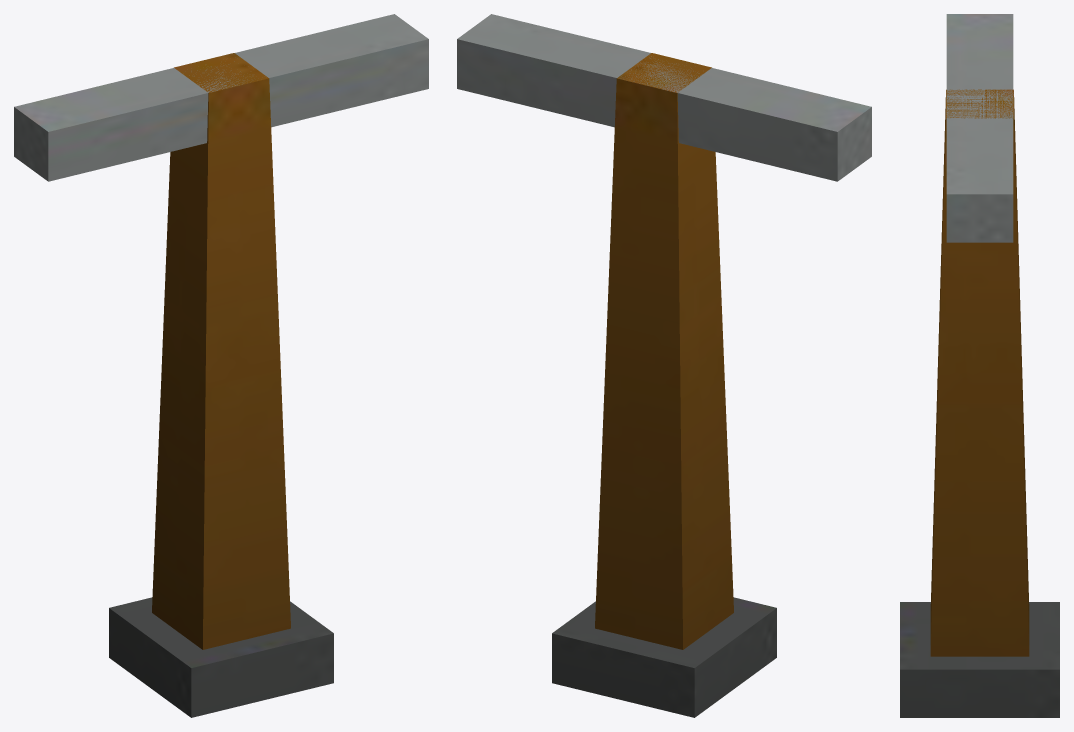
Rendered from small-electric-pole.glb.
The picture shows the model from 3 angles, left to right: view 1: azimuth 30°, elevation 25°; view 2: azimuth 150°, elevation 25°; view 3: azimuth 270°, elevation 25°; orthographic projection. The views are drawn at different scales.
Visible parts, largest first — view 1: small-electric-pole; view 2: small-electric-pole; view 3: small-electric-pole.
Boxes of the visible parts, x1,y1,x2,y2 form: small-electric-pole: (14,14,428,717); small-electric-pole: (457,14,871,717); small-electric-pole: (900,14,1059,717).
Size of the model in its own units: 0.16 by 0.24 by 0.06.
Materials: 1 (1 with a texture image).
